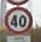limite 40: (3, 5, 33, 35)
